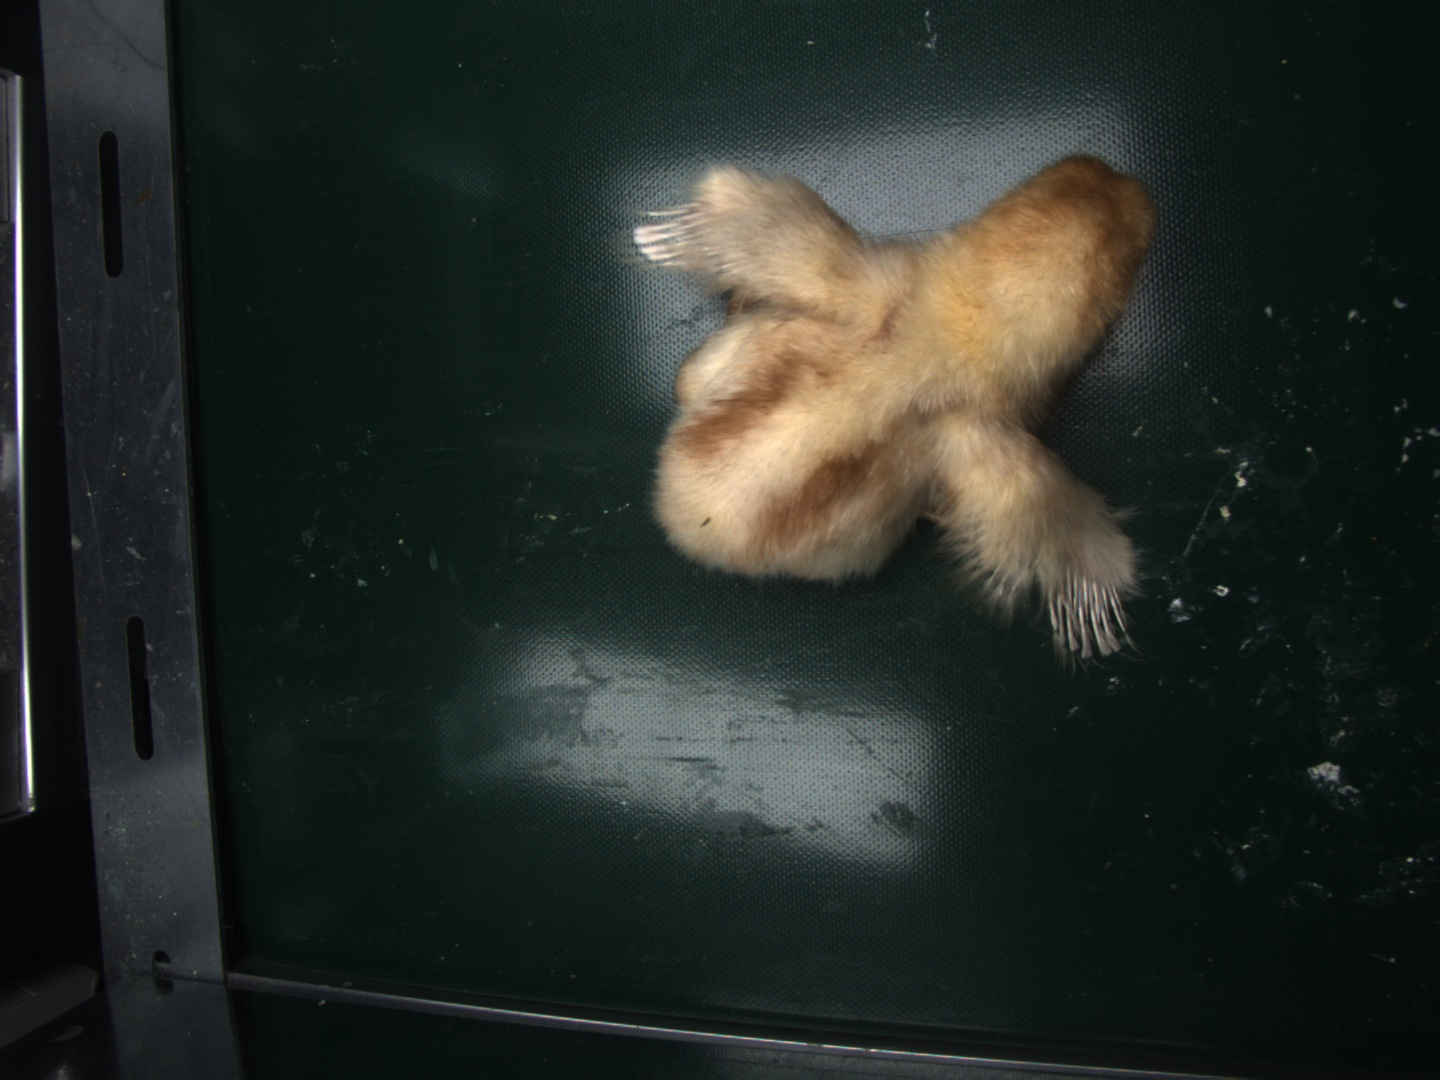female: (1048, 573, 1132, 663)
